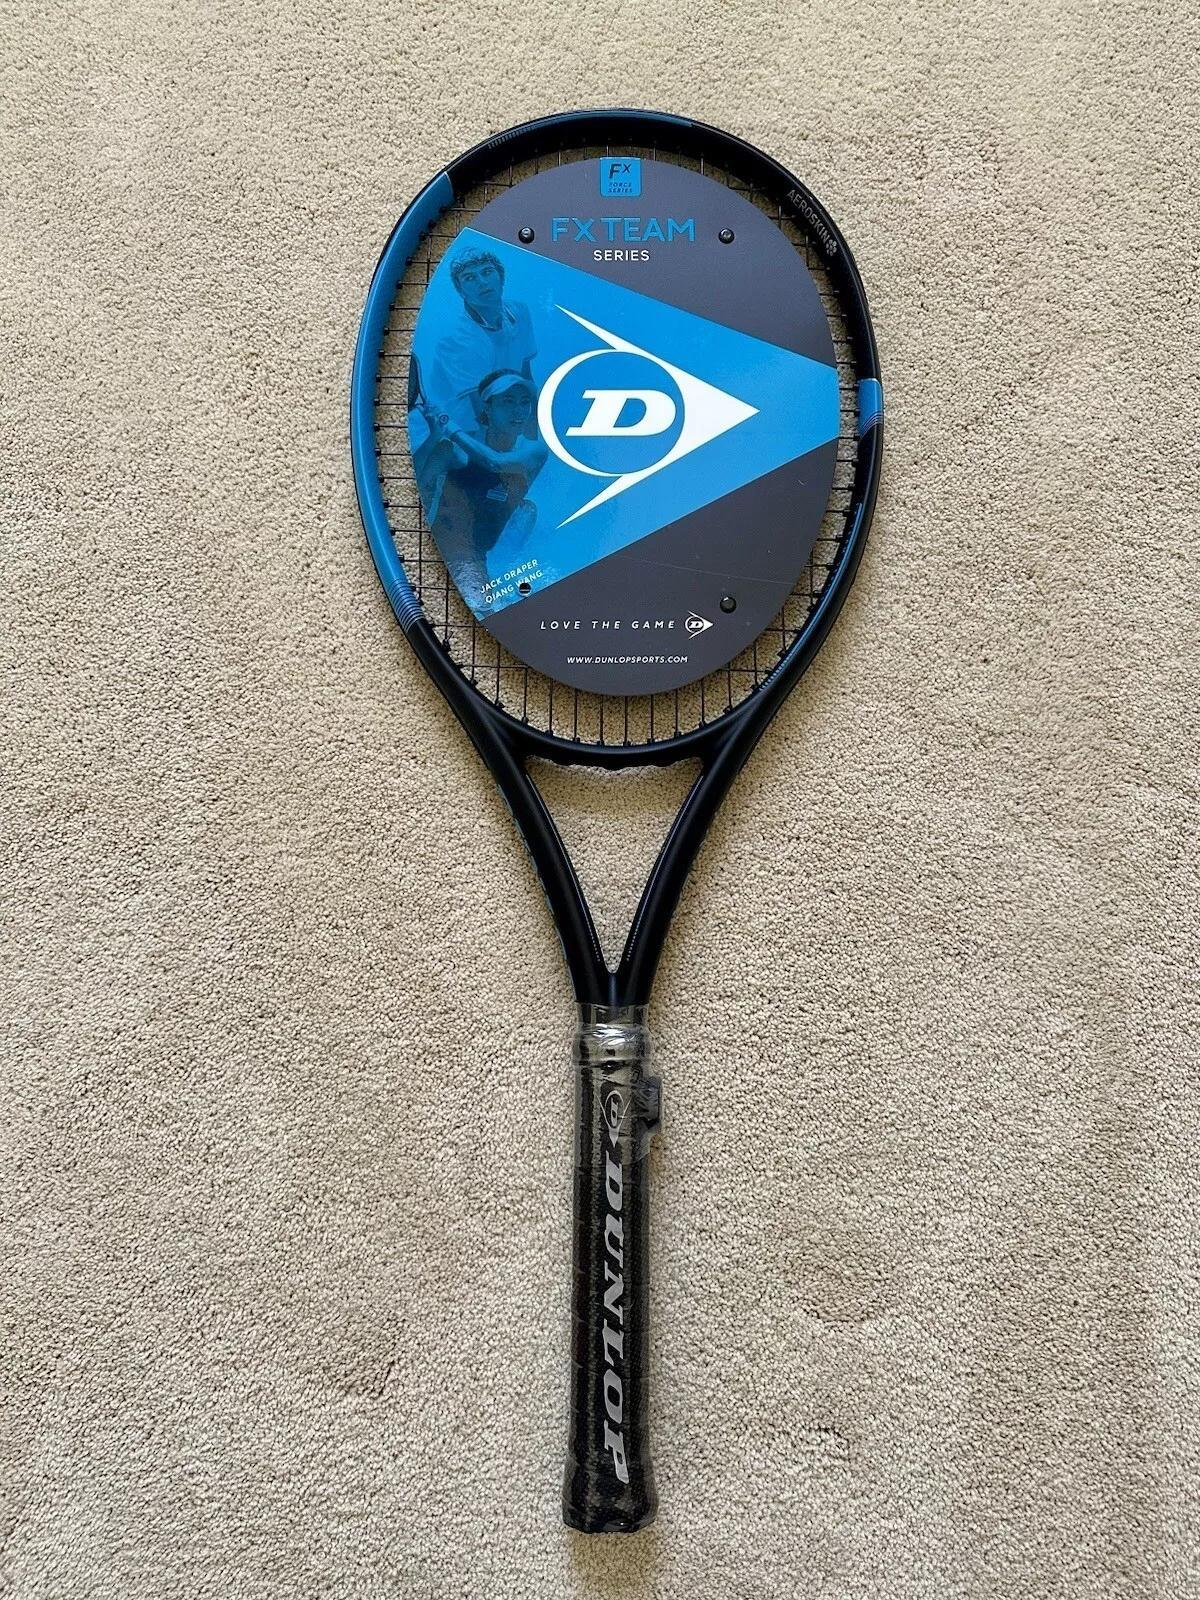Tennis-Racket: (353, 112, 881, 1532)
